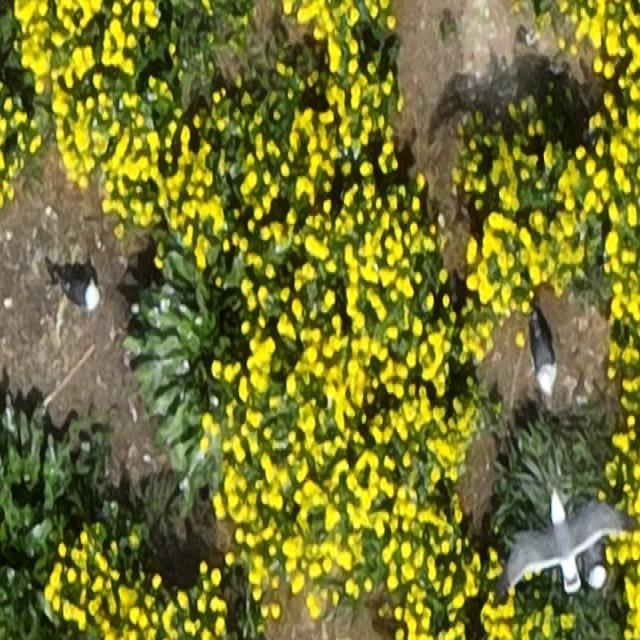F: (507, 490, 621, 594)
umineko: (530, 320, 562, 399), (60, 277, 101, 316), (584, 547, 608, 591)
